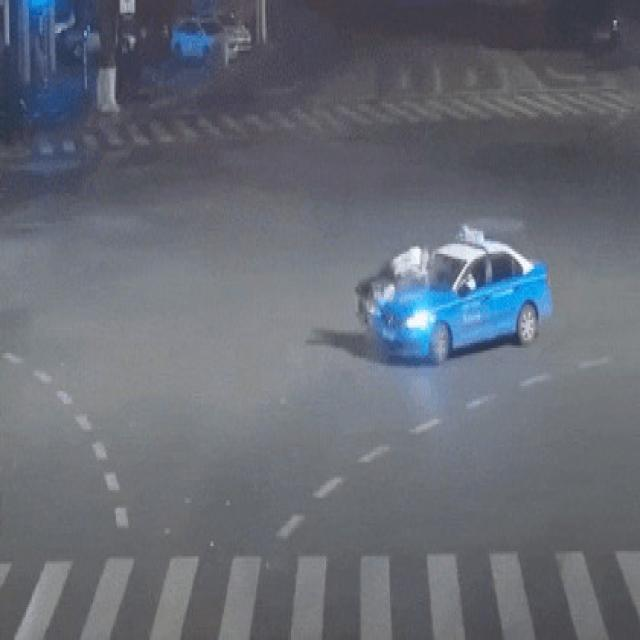multiple_accident: (345, 216, 560, 374)
